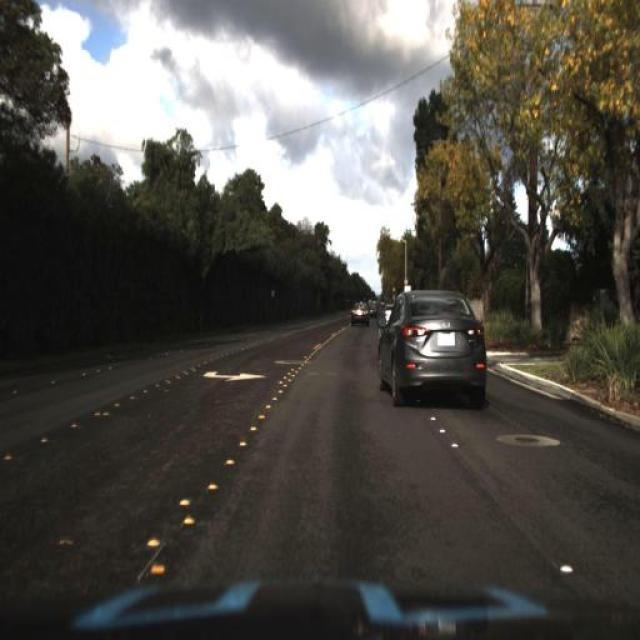car: (371, 291, 491, 405), (347, 298, 371, 330)
